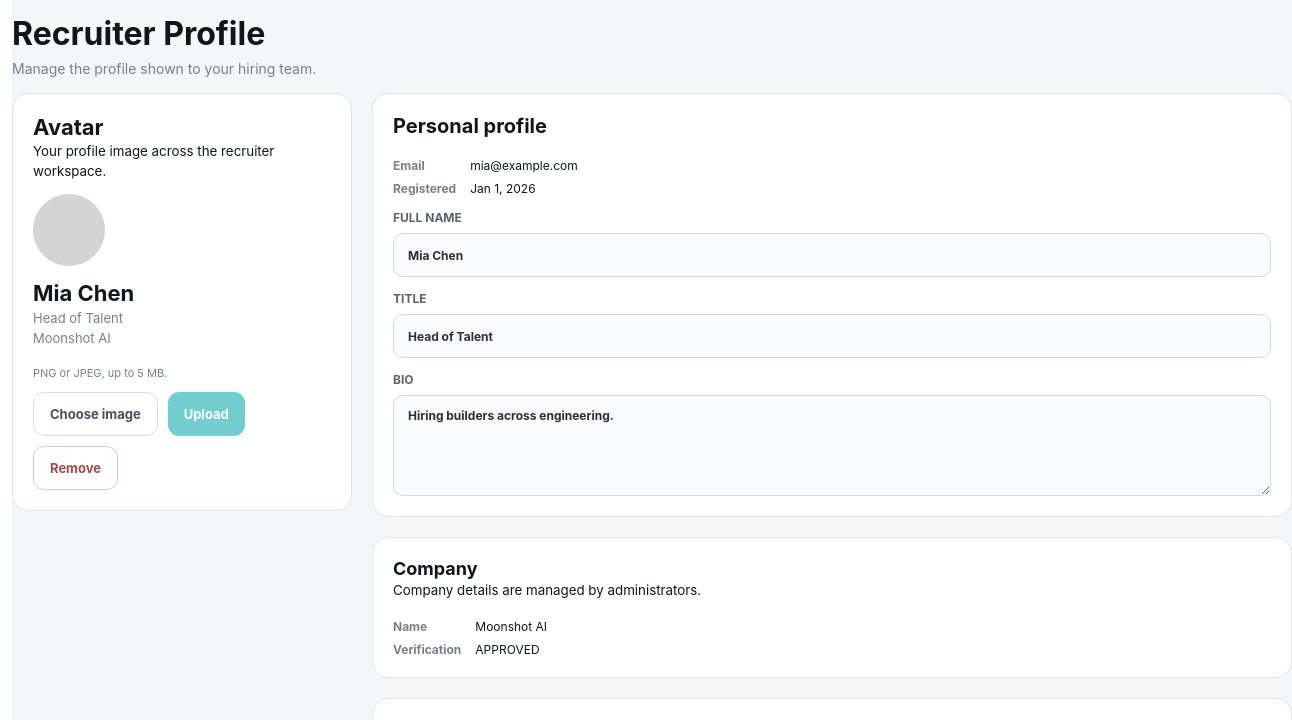
Test: ProfilePage › removes an existing avatar and falls back to initials
Expected: the field showing "Mia Chen" is shown, [393,233,1271,277]
Click the button "Remove": point(76, 468) [33,446,118,490]
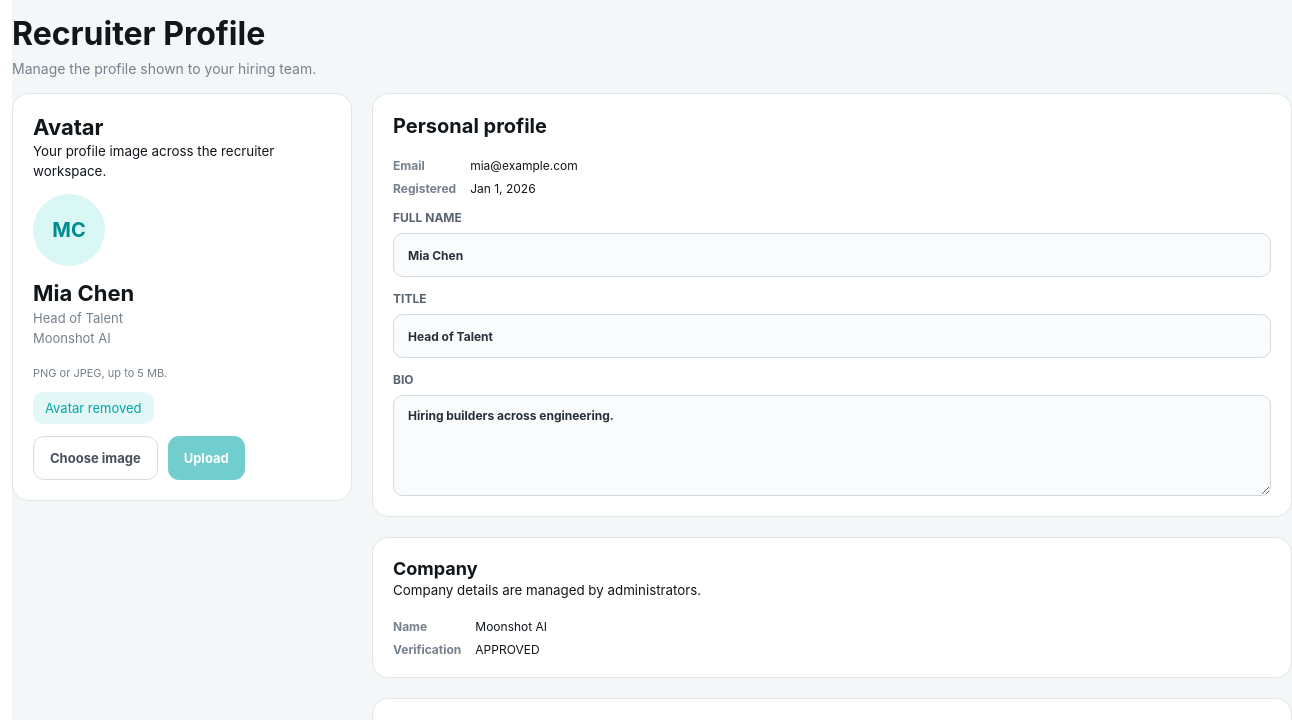
Now the text "Avatar removed" is shown, box [33,392,154,424]
Now the picture is gone
Now the text "MC" is shown, box [33,194,105,266]
